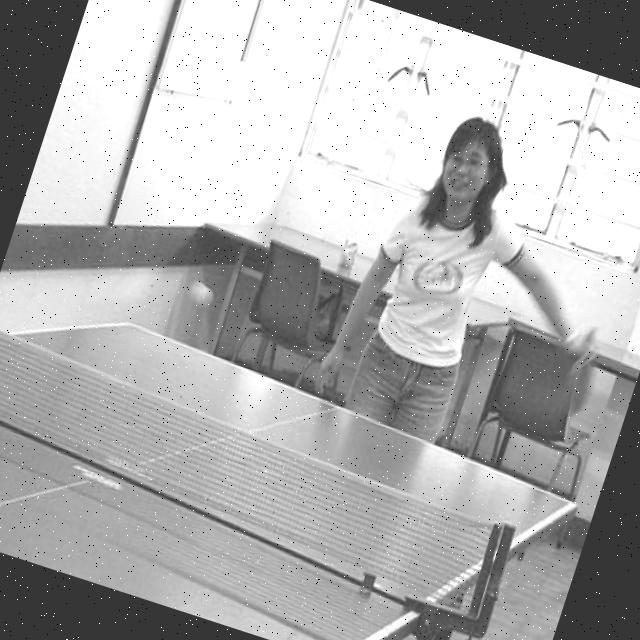ping-pong-ball: (184, 277, 217, 309)
